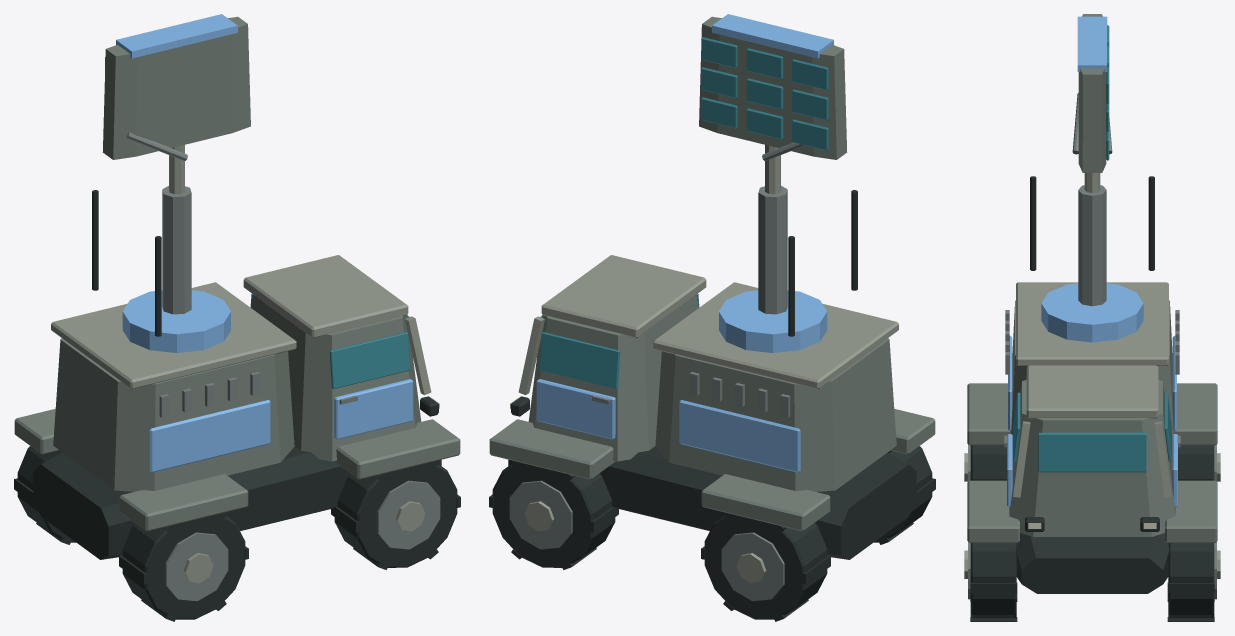
Rendered from jammer.glb.
The picture shows the model from 3 angles, left to right: view 1: azimuth 30°, elevation 25°; view 2: azimuth 150°, elevation 25°; view 3: azimuth 270°, elevation 25°; orthographic projection. The views are drawn at different scales.
Visible parts, largest first — view 1: Hull, Turret; view 2: Hull, Turret; view 3: Hull, Turret.
Part boxes in pixels (x1,y1,x2,y2): Hull: [14, 255, 460, 621]; Turret: [92, 14, 250, 352]; Hull: [489, 255, 935, 621]; Turret: [699, 14, 857, 352]; Hull: [964, 282, 1220, 621]; Turret: [1030, 14, 1154, 342].
Size of the model in its own units: 2.21 by 3.34 by 1.56.
